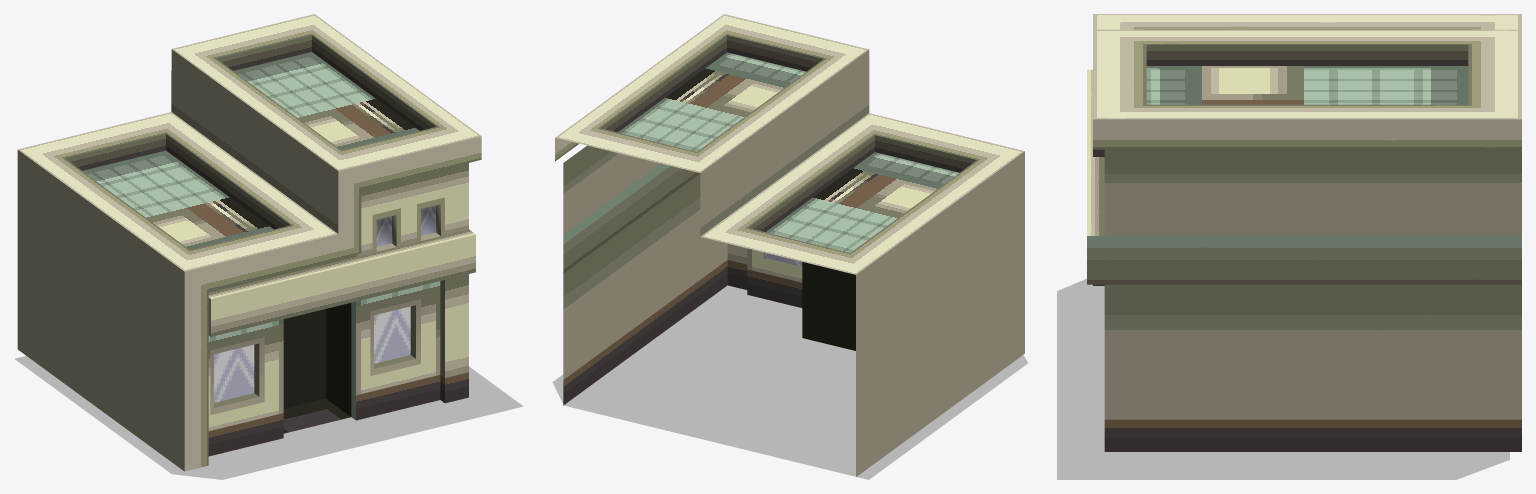
Rendered from st_house01.dae.
3 renders of one model, left to right at view 1: azimuth 30°, elevation 25°; view 2: azimuth 150°, elevation 25°; view 3: azimuth 270°, elevation 25°, orthographic. The views are drawn at different scales.
Parts seen in each view (by area): view 1: st_house01; view 2: st_house01; view 3: st_house01.
Part boxes in pixels (left/top/right/bottom): st_house01: left=14, top=14, right=523, bottom=479; st_house01: left=552, top=14, right=1027, bottom=479; st_house01: left=1057, top=14, right=1521, bottom=479.
Size of the model in its own units: 83 by 63.5 by 78.
